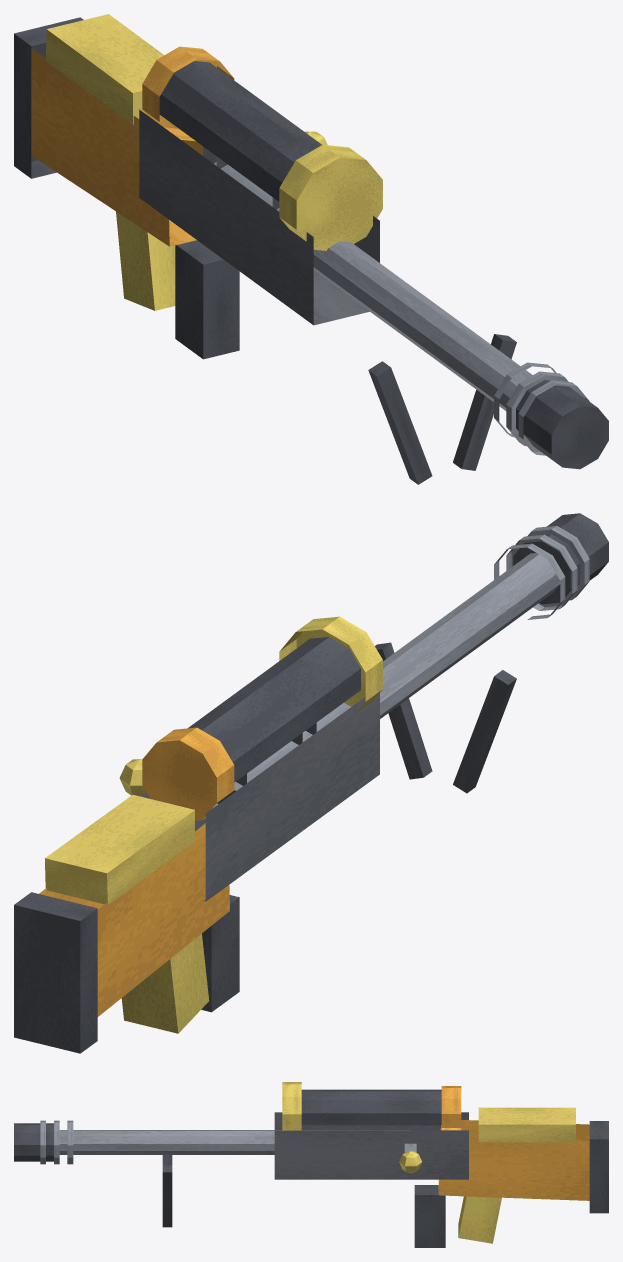
The model's file is weapon_sniper.glb.
The picture shows the model from 3 angles, top to bottom: view 1: azimuth 30°, elevation 25°; view 2: azimuth 150°, elevation 25°; view 3: azimuth 270°, elevation 25°; orthographic projection. The views are drawn at different scales.
Visible parts, largest first — view 1: weapon_sniper; view 2: weapon_sniper; view 3: weapon_sniper.
Part boxes in pixels (x1,y1,x2,y2): weapon_sniper: [14, 14, 608, 484]; weapon_sniper: [14, 513, 608, 1053]; weapon_sniper: [14, 1082, 608, 1247].
Bounding box in the file's own units: 0.564 × 0.9 × 3.06.
1 material, 1 textured.
